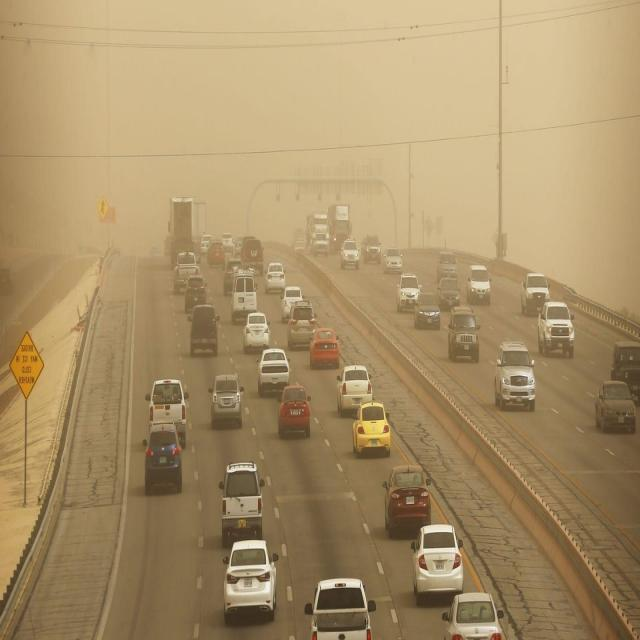Car: (307, 562, 370, 640), (409, 516, 467, 592), (219, 451, 268, 534), (221, 542, 275, 614), (489, 332, 538, 410), (138, 418, 189, 489), (381, 462, 435, 526), (442, 588, 503, 640), (444, 298, 481, 372), (594, 379, 637, 438), (143, 370, 188, 424), (536, 297, 576, 357), (209, 373, 245, 425), (354, 400, 390, 450), (610, 340, 639, 401), (188, 301, 220, 354), (278, 382, 310, 432), (257, 346, 291, 393), (338, 360, 371, 404), (286, 299, 316, 346), (308, 324, 338, 369), (520, 268, 552, 310), (240, 312, 270, 351), (172, 250, 201, 290), (467, 262, 493, 305), (415, 293, 444, 325), (183, 273, 206, 311), (243, 238, 265, 277), (224, 256, 244, 293), (398, 276, 422, 306), (282, 283, 302, 319), (365, 230, 385, 264), (440, 275, 461, 305), (384, 245, 404, 275), (341, 236, 358, 271), (438, 252, 459, 278), (266, 262, 284, 290), (208, 240, 223, 267), (221, 228, 234, 254), (312, 233, 328, 254), (201, 232, 213, 256), (234, 230, 243, 256)
Truck: (167, 193, 194, 254), (329, 202, 353, 252), (305, 204, 328, 256), (192, 198, 212, 246)
Van: (229, 266, 257, 322)
